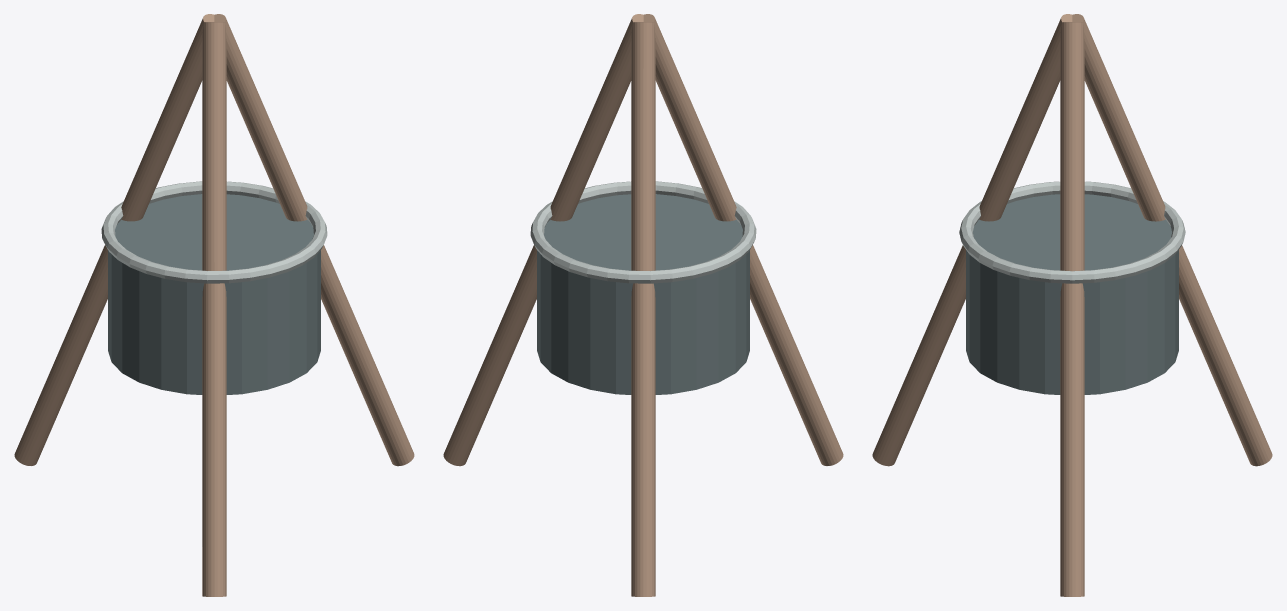
The picture shows the model from 3 angles, left to right: view 1: azimuth 30°, elevation 25°; view 2: azimuth 150°, elevation 25°; view 3: azimuth 270°, elevation 25°; orthographic projection.
Visible parts, largest first — view 1: cooking pot, tripod.002, tripod, tripod.001, pot rim; view 2: cooking pot, tripod.001, tripod, tripod.002, pot rim; view 3: cooking pot, tripod, tripod.001, tripod.002, pot rim.
Part boxes in pixels (left/top/right/bottom): cooking pot: left=108, top=194, right=320, bottom=394; tripod.002: left=202, top=22, right=226, bottom=596; tripod: left=214, top=14, right=414, bottom=466; tripod.001: left=14, top=14, right=214, bottom=465; pot rim: left=101, top=181, right=327, bottom=283; cooking pot: left=537, top=194, right=749, bottom=394; tripod.001: left=631, top=22, right=655, bottom=596; tripod: left=443, top=14, right=643, bottom=466; tripod.002: left=643, top=14, right=843, bottom=465; pot rim: left=530, top=181, right=756, bottom=283; cooking pot: left=966, top=194, right=1178, bottom=394; tripod: left=1060, top=22, right=1084, bottom=596; tripod.001: left=1072, top=14, right=1272, bottom=466; tripod.002: left=872, top=14, right=1072, bottom=466; pot rim: left=959, top=181, right=1185, bottom=283.
Size of the model in its own units: 0.7226 by 1.12 by 0.8268.
